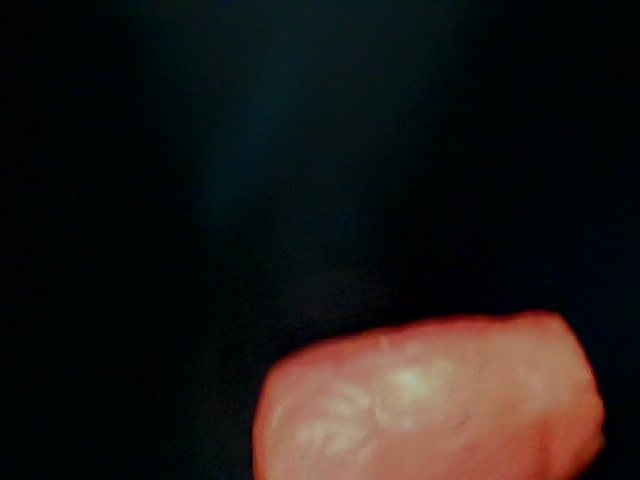KHSLJ: (1, 149, 267, 427)
